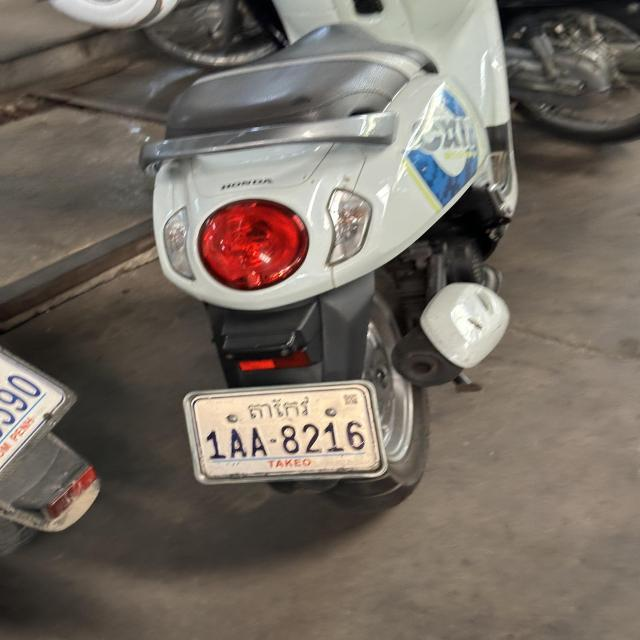Takeo: (247, 395, 312, 421)
